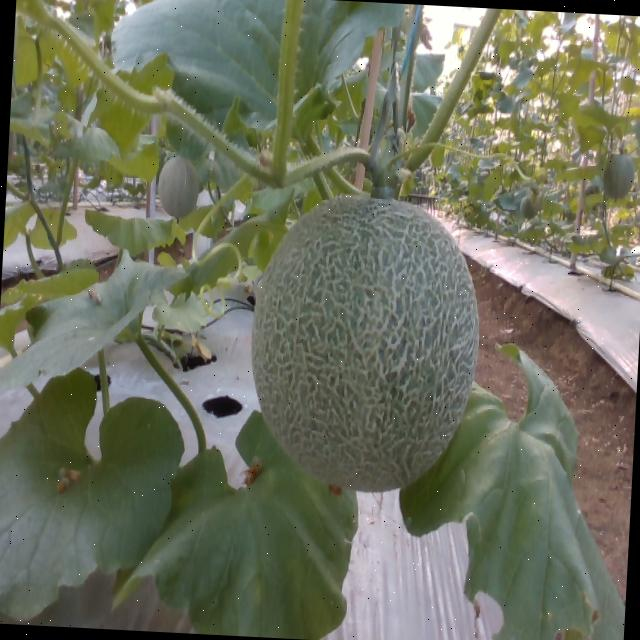melon: (253, 196, 477, 492)
